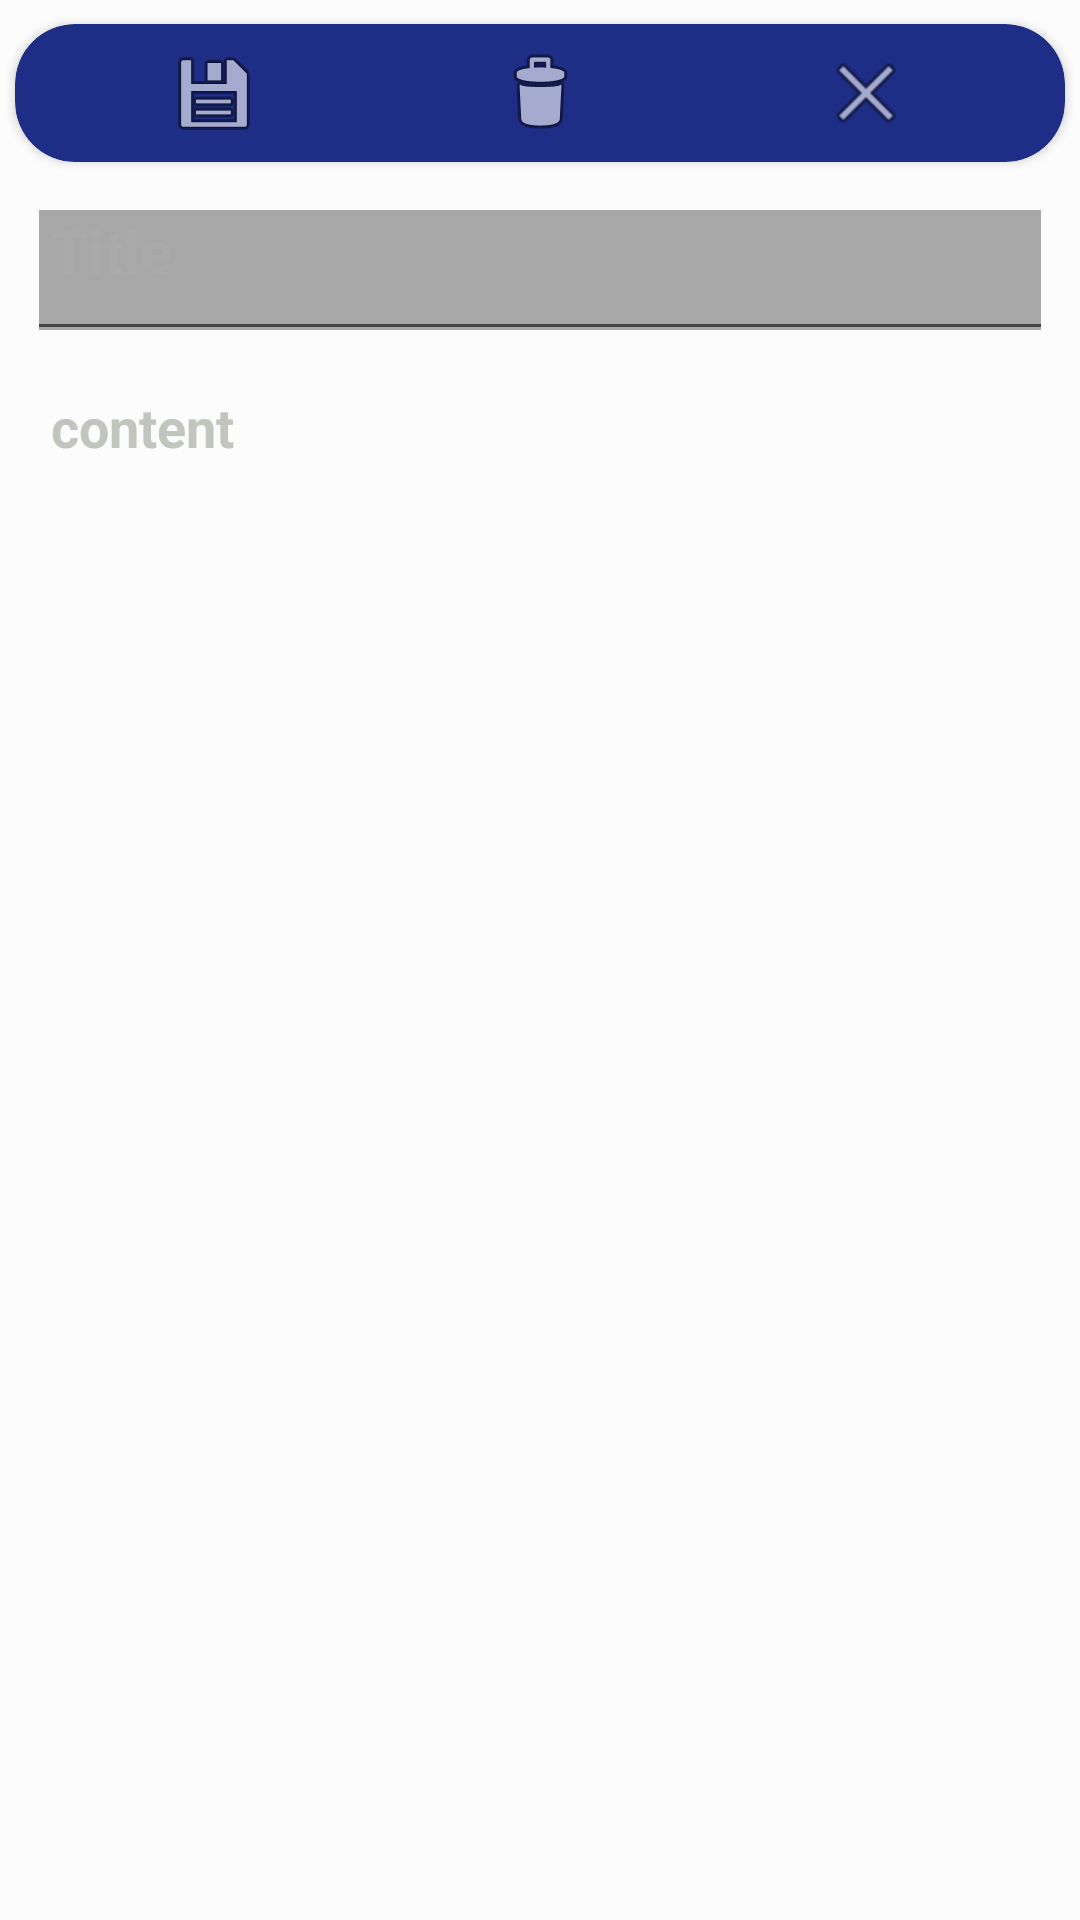

Named icons in this screenshot (1080x1920) and their bounding boxes, {"x1": x1, "y1": y1, "x2": x2, "y2": y2}:
close clear cancel: {"x1": 836, "y1": 63, "x2": 896, "y2": 123}
delete: {"x1": 514, "y1": 54, "x2": 567, "y2": 129}
save: {"x1": 178, "y1": 57, "x2": 250, "y2": 130}
